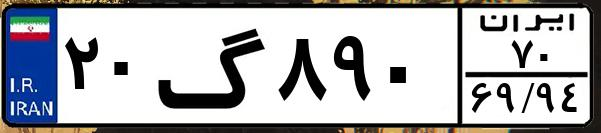0: (385, 28, 445, 110), (110, 28, 156, 98), (537, 27, 568, 80)
2: (57, 26, 110, 100)
4: (560, 70, 590, 125)
6: (470, 70, 495, 125)
7: (508, 27, 537, 80)
8: (270, 28, 330, 110)
9: (330, 28, 385, 110), (495, 70, 520, 125), (535, 70, 560, 125)
گ: (156, 12, 270, 120)
